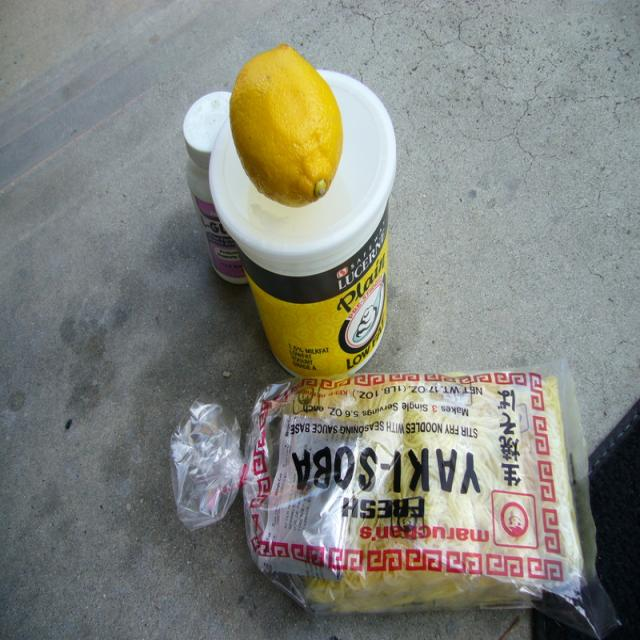container- lemon - packet: (243, 363, 617, 637), (210, 72, 395, 376), (230, 44, 343, 206), (183, 92, 246, 283)
